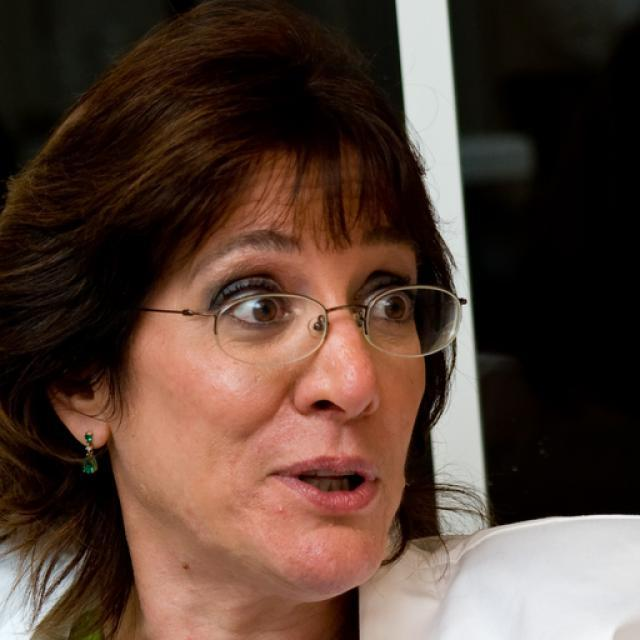surprise: (112, 152, 426, 588)
